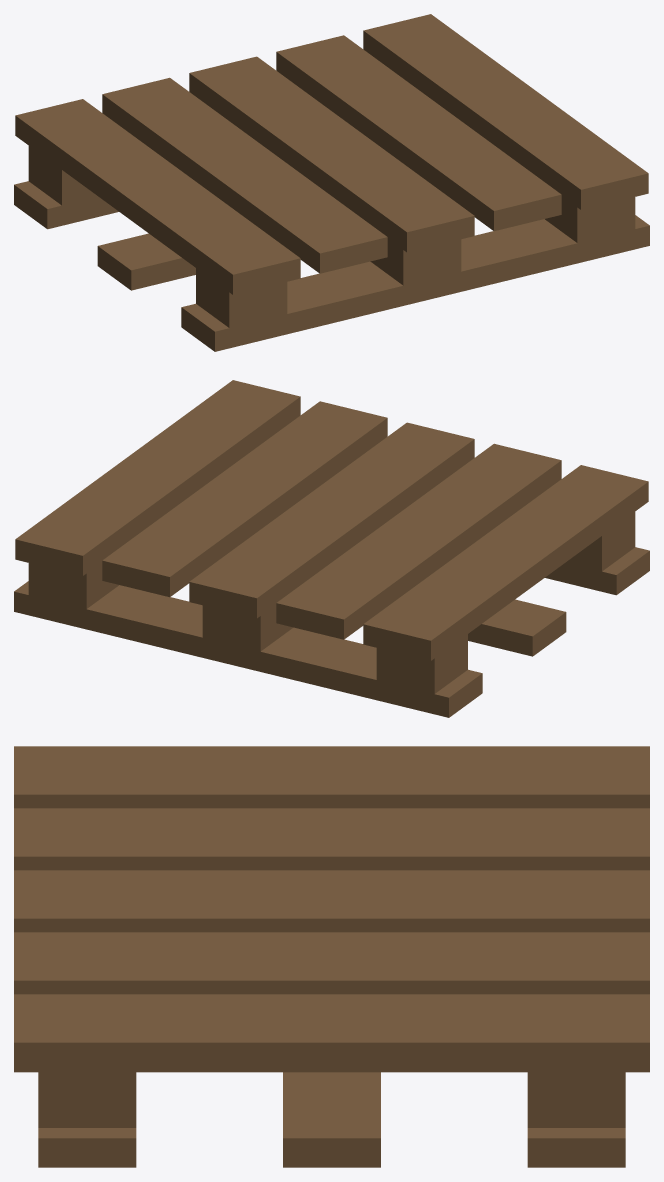
The picture shows the model from 3 angles, top to bottom: view 1: azimuth 30°, elevation 25°; view 2: azimuth 150°, elevation 25°; view 3: azimuth 270°, elevation 25°; orthographic projection. The views are drawn at different scales.
Parts seen in each view (by area): view 1: a146; view 2: a146; view 3: a146.
Part boxes in pixels (x1=…): a146: x1=14, y1=14, x2=649, y2=351; a146: x1=14, y1=380, x2=649, y2=717; a146: x1=14, y1=746, x2=649, y2=1167.
Size of the model in its own units: 0.9 by 0.16 by 0.78.
